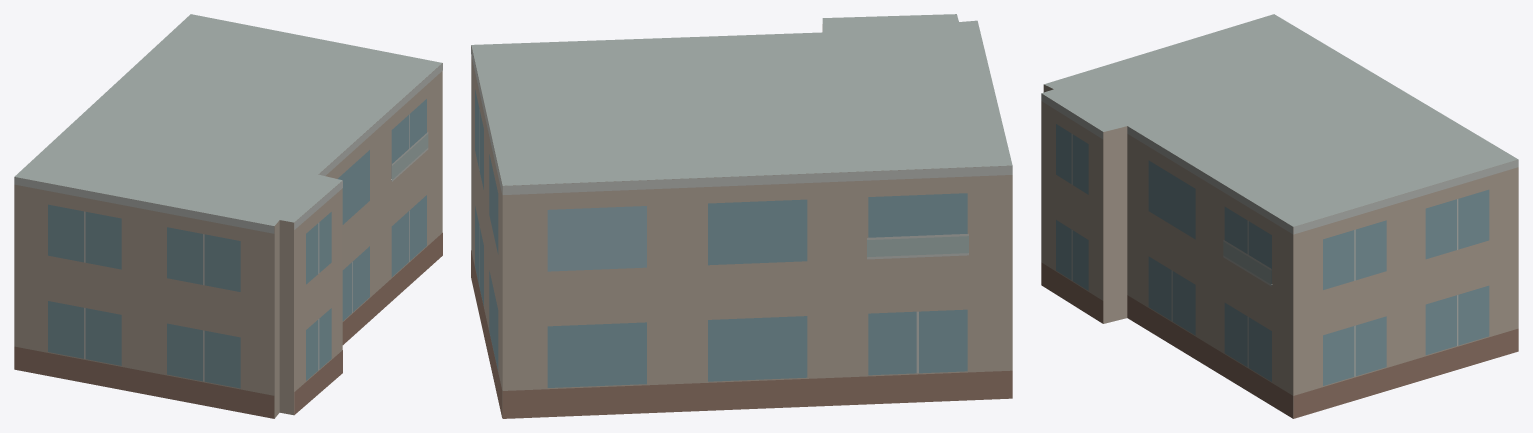
File: survey-upis-33010733.glb
3 views of the same model, side by side, from view 1: azimuth 30°, elevation 25°; view 2: azimuth 150°, elevation 25°; view 3: azimuth 270°, elevation 25° (orthographic). The views are drawn at different scales.
Visible parts, largest first — view 1: survey-upis-33010733.tmp; view 2: survey-upis-33010733.tmp; view 3: survey-upis-33010733.tmp.
Boxes of the visible parts, x1,y1,x2,y2 form: survey-upis-33010733.tmp: [14, 14, 442, 418]; survey-upis-33010733.tmp: [471, 14, 1012, 418]; survey-upis-33010733.tmp: [1041, 14, 1518, 418].
Bounding box in the file's own units: 14.52 × 6.1 × 13.75.
